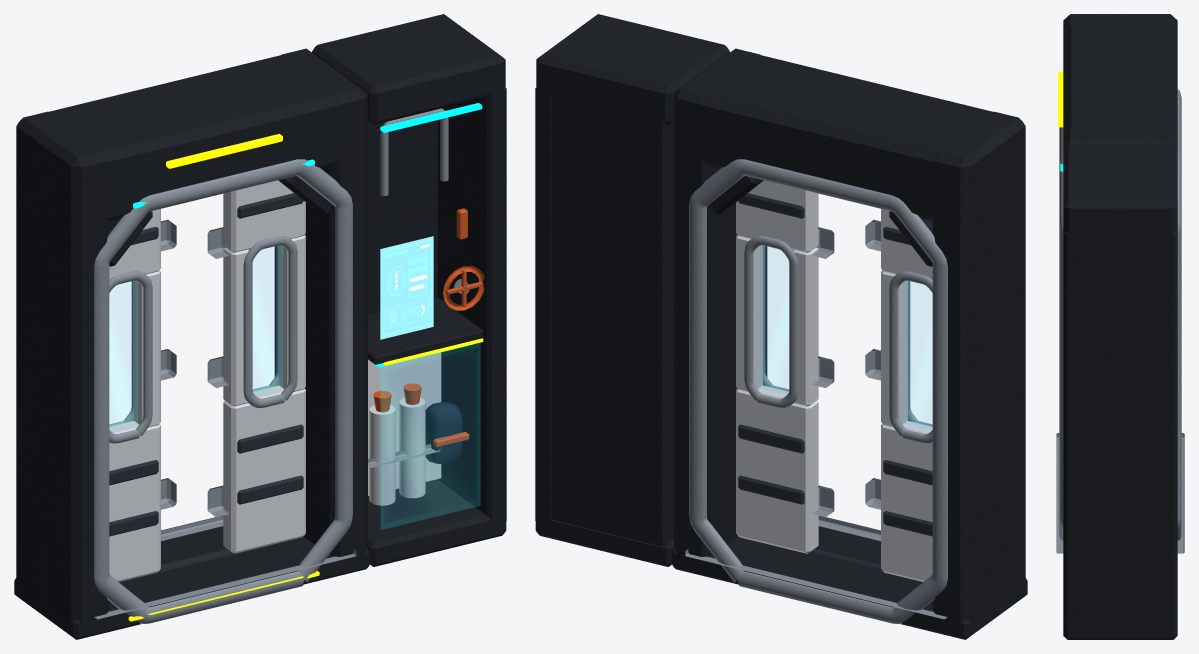
Rendered from corridor_door_winner_01_dual_zone_portal.glb.
3 renders of one model, left to right at view 1: azimuth 30°, elevation 25°; view 2: azimuth 150°, elevation 25°; view 3: azimuth 270°, elevation 25°, orthographic. The views are drawn at different scales.
Parts seen in each view (by area): view 1: Corridor02_SplitBayGunmetalPortal, Corridor02_WhiteBlastDoorsAndExtinguishers, Corridor02_MachinedTeethSillAndPipes, Corridor02_TranslucentDoorAndLockerWindows, Corridor02_RightBayOLEDStatus, Corridor02_CarbonSlateDoorArmor, Corridor02_SignalOrangeHandwheelAndValves, Corridor02_AmberBeaconsAndSillLED, Corridor02_StowedNavyTraumaPack, Corridor02_CyanArchAndLockerLED; view 2: Corridor02_SplitBayGunmetalPortal, Corridor02_MachinedTeethSillAndPipes, Corridor02_WhiteBlastDoorsAndExtinguishers, Corridor02_TranslucentDoorAndLockerWindows, Corridor02_CarbonSlateDoorArmor; view 3: Corridor02_SplitBayGunmetalPortal, Corridor02_MachinedTeethSillAndPipes, Corridor02_AmberBeaconsAndSillLED.
Part boxes in pixels (box(x1,y1,x2,y2)): Corridor02_SplitBayGunmetalPortal: box(14, 14, 506, 639); Corridor02_WhiteBlastDoorsAndExtinguishers: box(109, 180, 441, 581); Corridor02_MachinedTeethSillAndPipes: box(94, 108, 469, 623); Corridor02_TranslucentDoorAndLockerWindows: box(110, 246, 479, 529); Corridor02_RightBayOLEDStatus: box(380, 236, 433, 339); Corridor02_CarbonSlateDoorArmor: box(109, 193, 303, 536); Corridor02_SignalOrangeHandwheelAndValves: box(373, 208, 484, 447); Corridor02_AmberBeaconsAndSillLED: box(128, 134, 483, 621); Corridor02_StowedNavyTraumaPack: box(425, 402, 462, 464); Corridor02_CyanArchAndLockerLED: box(133, 103, 482, 367); Corridor02_SplitBayGunmetalPortal: box(535, 14, 1027, 639); Corridor02_MachinedTeethSillAndPipes: box(685, 159, 947, 623); Corridor02_WhiteBlastDoorsAndExtinguishers: box(736, 180, 932, 581); Corridor02_TranslucentDoorAndLockerWindows: box(759, 246, 931, 429); Corridor02_CarbonSlateDoorArmor: box(738, 193, 932, 536); Corridor02_SplitBayGunmetalPortal: box(1063, 14, 1177, 639); Corridor02_MachinedTeethSillAndPipes: box(1056, 89, 1184, 553); Corridor02_AmberBeaconsAndSillLED: box(1058, 71, 1063, 127).
Size of the model in its own units: 2.6 by 2.75 by 0.73.
11 materials, 11 textured.
